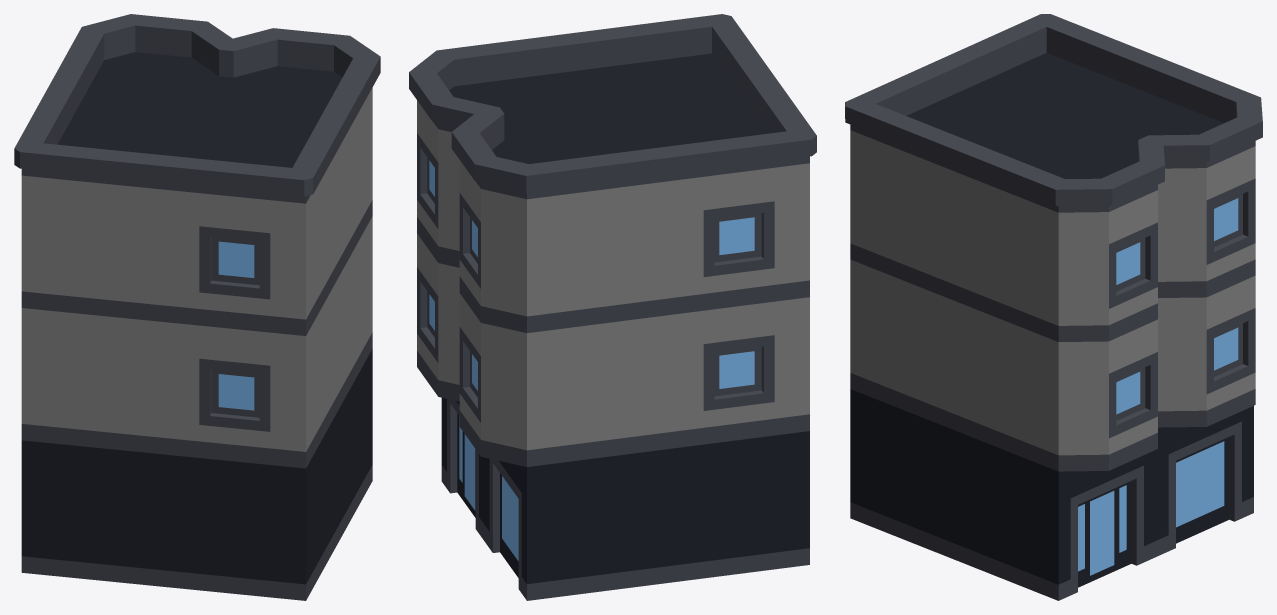
File: variant_44.obj
The picture shows the model from 3 angles, left to right: view 1: azimuth 30°, elevation 25°; view 2: azimuth 150°, elevation 25°; view 3: azimuth 270°, elevation 25°; orthographic projection. The views are drawn at different scales.
Parts seen in each view (by area): view 1: Building; view 2: Building; view 3: Building.
Part boxes in pixels (box(x1,y1,x2,y2)): Building: box(14, 14, 380, 600); Building: box(409, 14, 816, 600); Building: box(845, 14, 1262, 600).
Bounding box in the file's own units: 1.17 × 1.28 × 1.17.
